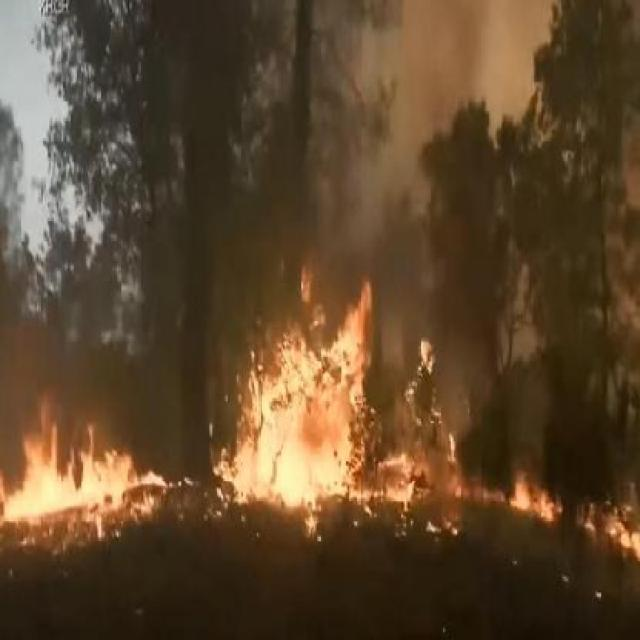Fire: (203, 268, 471, 548), (2, 380, 173, 548), (505, 468, 640, 568)
